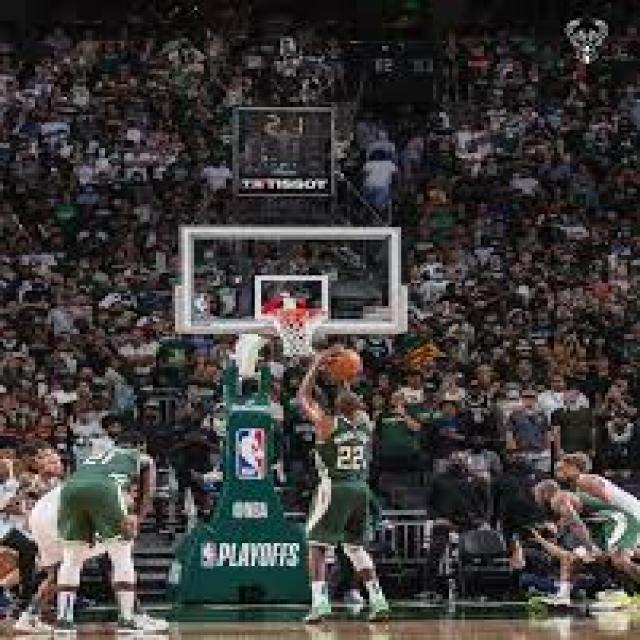rim: (325, 347, 363, 382)
